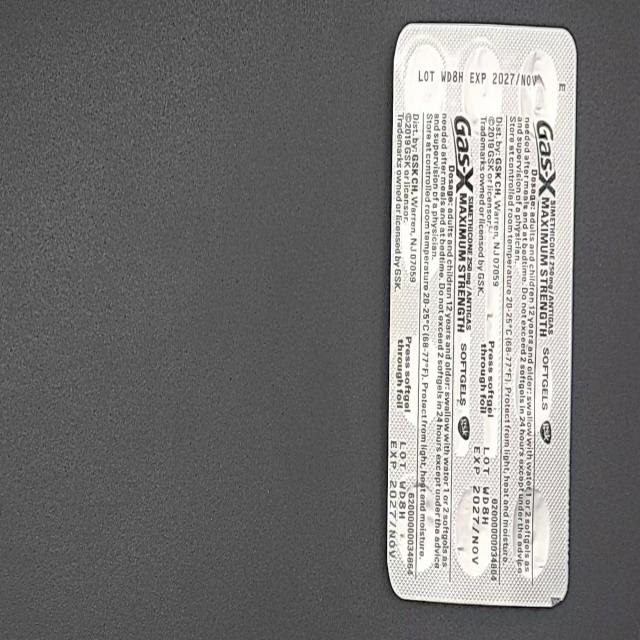no defect: (10, 18, 33, 62)
